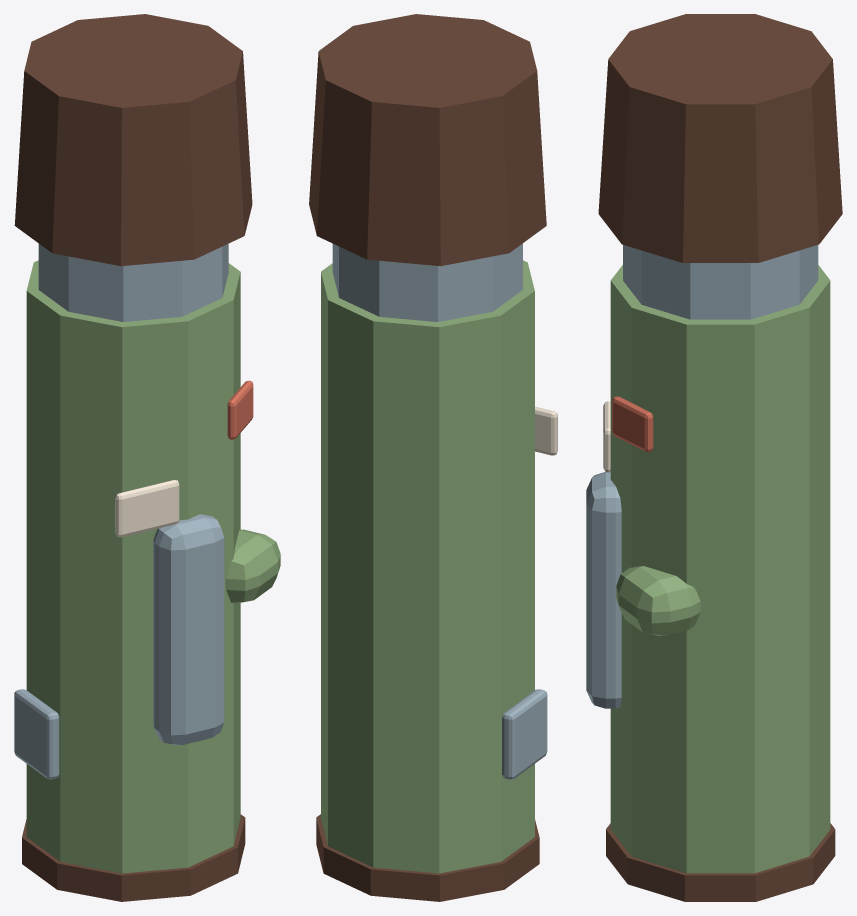
Rendered from thermos_dented.glb.
The picture shows the model from 3 angles, left to right: view 1: azimuth 30°, elevation 25°; view 2: azimuth 150°, elevation 25°; view 3: azimuth 270°, elevation 25°; orthographic projection.
Parts seen in each view (by area): view 1: thermos_dented; view 2: thermos_dented; view 3: thermos_dented.
Boxes of the visible parts, x1,y1,x2,y2 form: thermos_dented: (14,14,280,901); thermos_dented: (309,14,557,901); thermos_dented: (586,14,842,901).
Bounding box in the file's own units: 0.1027 × 0.36 × 0.105.
